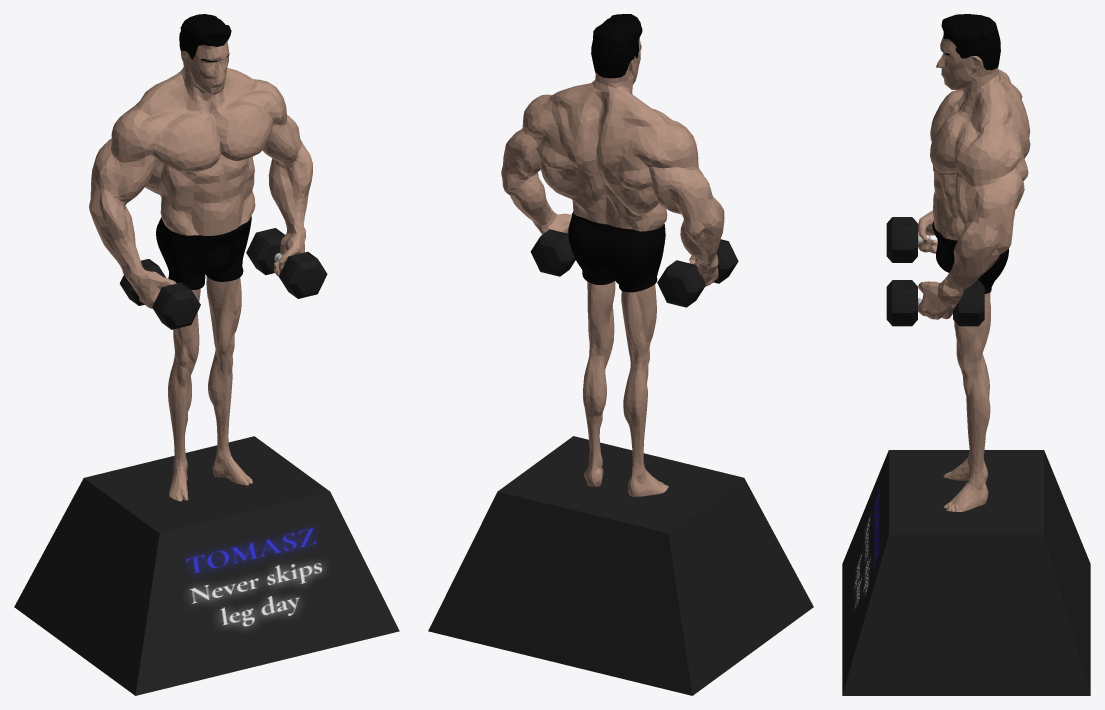
Rendered from newev_skip_legs.gltf.
The picture shows the model from 3 angles, left to right: view 1: azimuth 30°, elevation 25°; view 2: azimuth 150°, elevation 25°; view 3: azimuth 270°, elevation 25°; orthographic projection. The views are drawn at different scales.
Visible parts, largest first — view 1: Hex_rubber.001, another_stand2.001, another_stand2; view 2: another_stand2, Hex_rubber.001; view 3: another_stand2, Hex_rubber.001, another_stand2.001.
Part boxes in pixels (x1=…): Hex_rubber.001: x1=89, y1=14, x2=327, y2=501; another_stand2.001: x1=135, y1=492, x2=399, y2=695; another_stand2: x1=14, y1=436, x2=329, y2=695; another_stand2: x1=428, y1=436, x2=813, y2=695; Hex_rubber.001: x1=501, y1=14, x2=738, y2=497; another_stand2: x1=842, y1=450, x2=1090, y2=695; Hex_rubber.001: x1=886, y1=14, x2=1030, y2=511; another_stand2.001: x1=842, y1=450, x2=888, y2=694.
Bounding box in the file's own units: 1.14 × 2.48 × 0.9103.
Materials: 15 (1 with a texture image).
